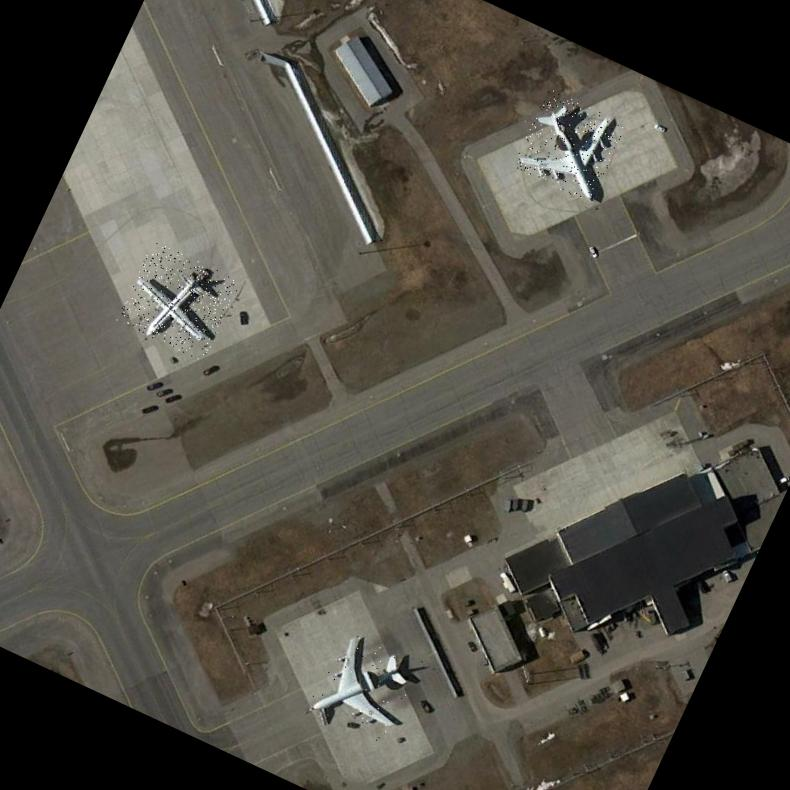A2: (115, 240, 241, 362)
A7: (304, 624, 424, 747), (511, 88, 627, 204)
